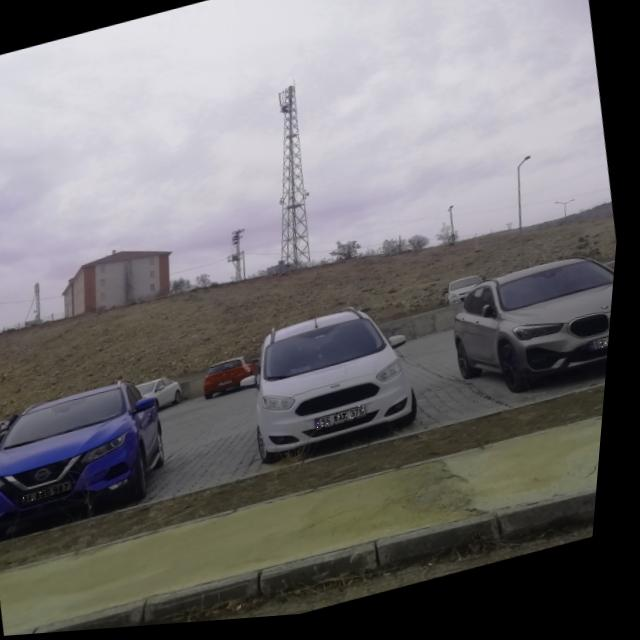license_plate: (26, 484, 80, 507), (322, 411, 375, 434), (595, 343, 616, 361)
